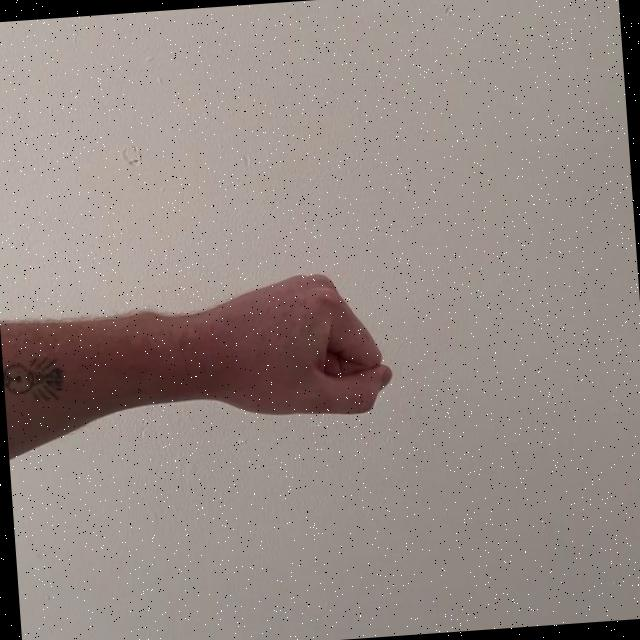rock: (150, 261, 398, 432)
